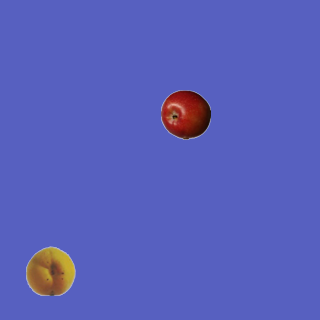Apple Braeburn: (160, 89, 210, 139)
Peach 2: (25, 245, 75, 295)
